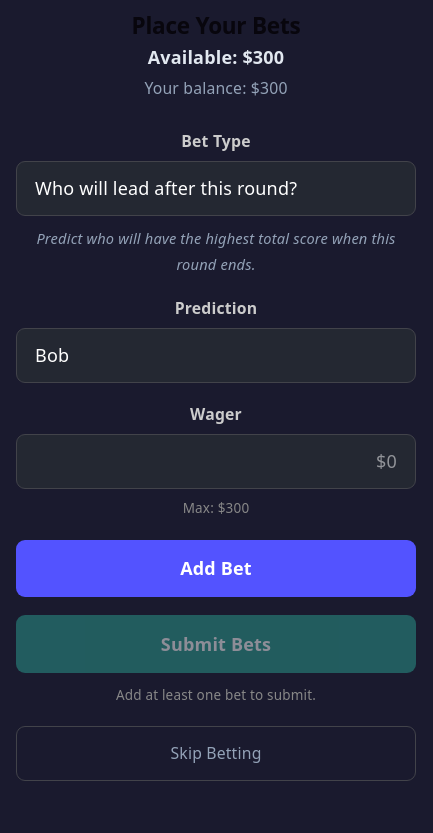
Scenario: PlayerBettingPanel › Cumulative wager constraint enforcement (Req 4.3) › rejects a wager that exceeds the player balance
Type "400" into the field labelled "Wager" at (216, 461), box [16,434,416,489]
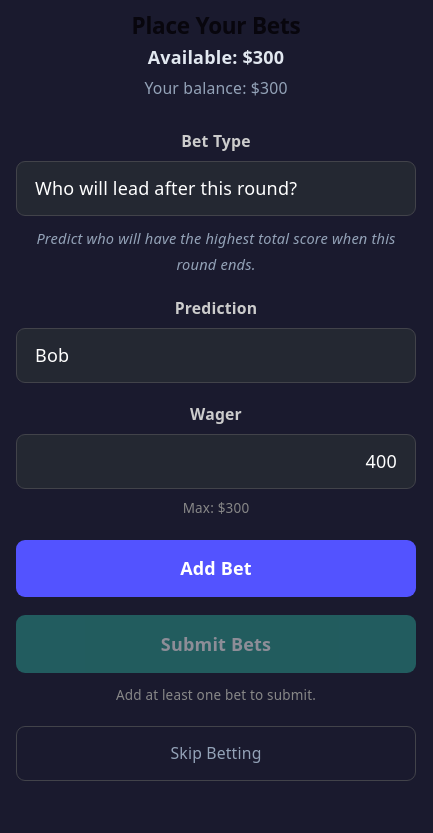
Click the button "Add Bet" at (216, 568), box [16,540,416,597]
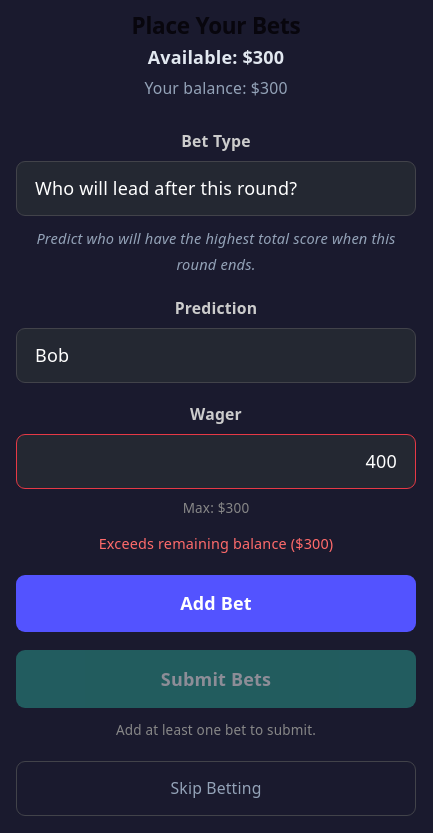
Result: the message shows "Exceeds remaining balance" at [99,534,333,553]
